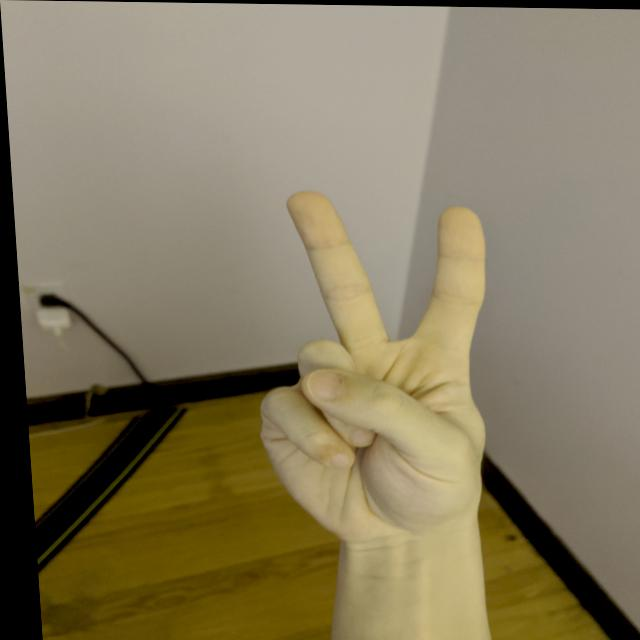V: (233, 184, 507, 547)
